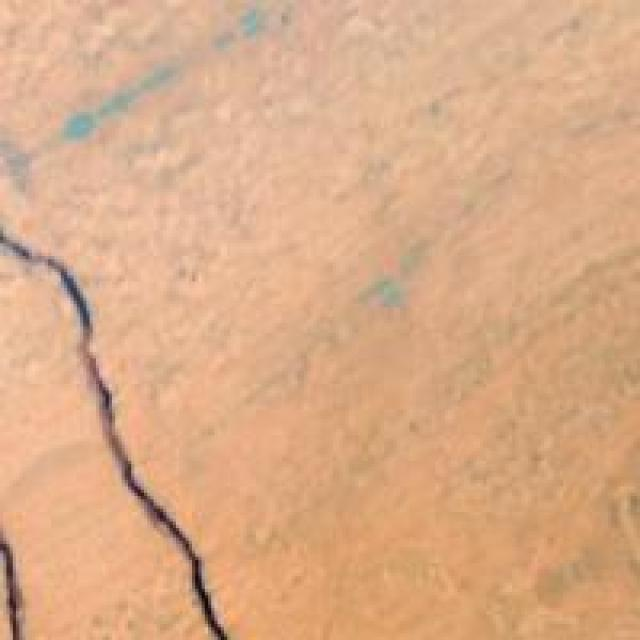Crack: (0, 93, 237, 637)
